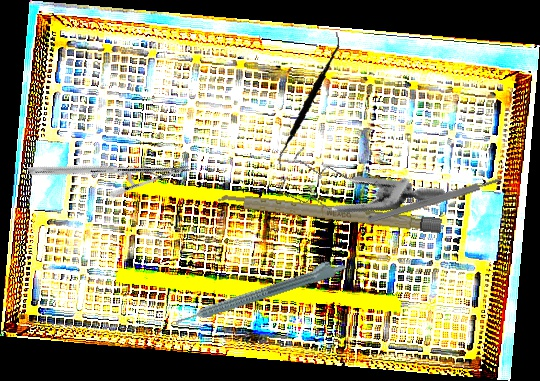Handpiece: (171, 253, 348, 329)
Needle Holder: (26, 97, 193, 243)
Scalpel Handle: (216, 191, 443, 234), (367, 176, 503, 224)
Spatula Surgical: (265, 31, 352, 170)
Speculum: (266, 101, 448, 261)
